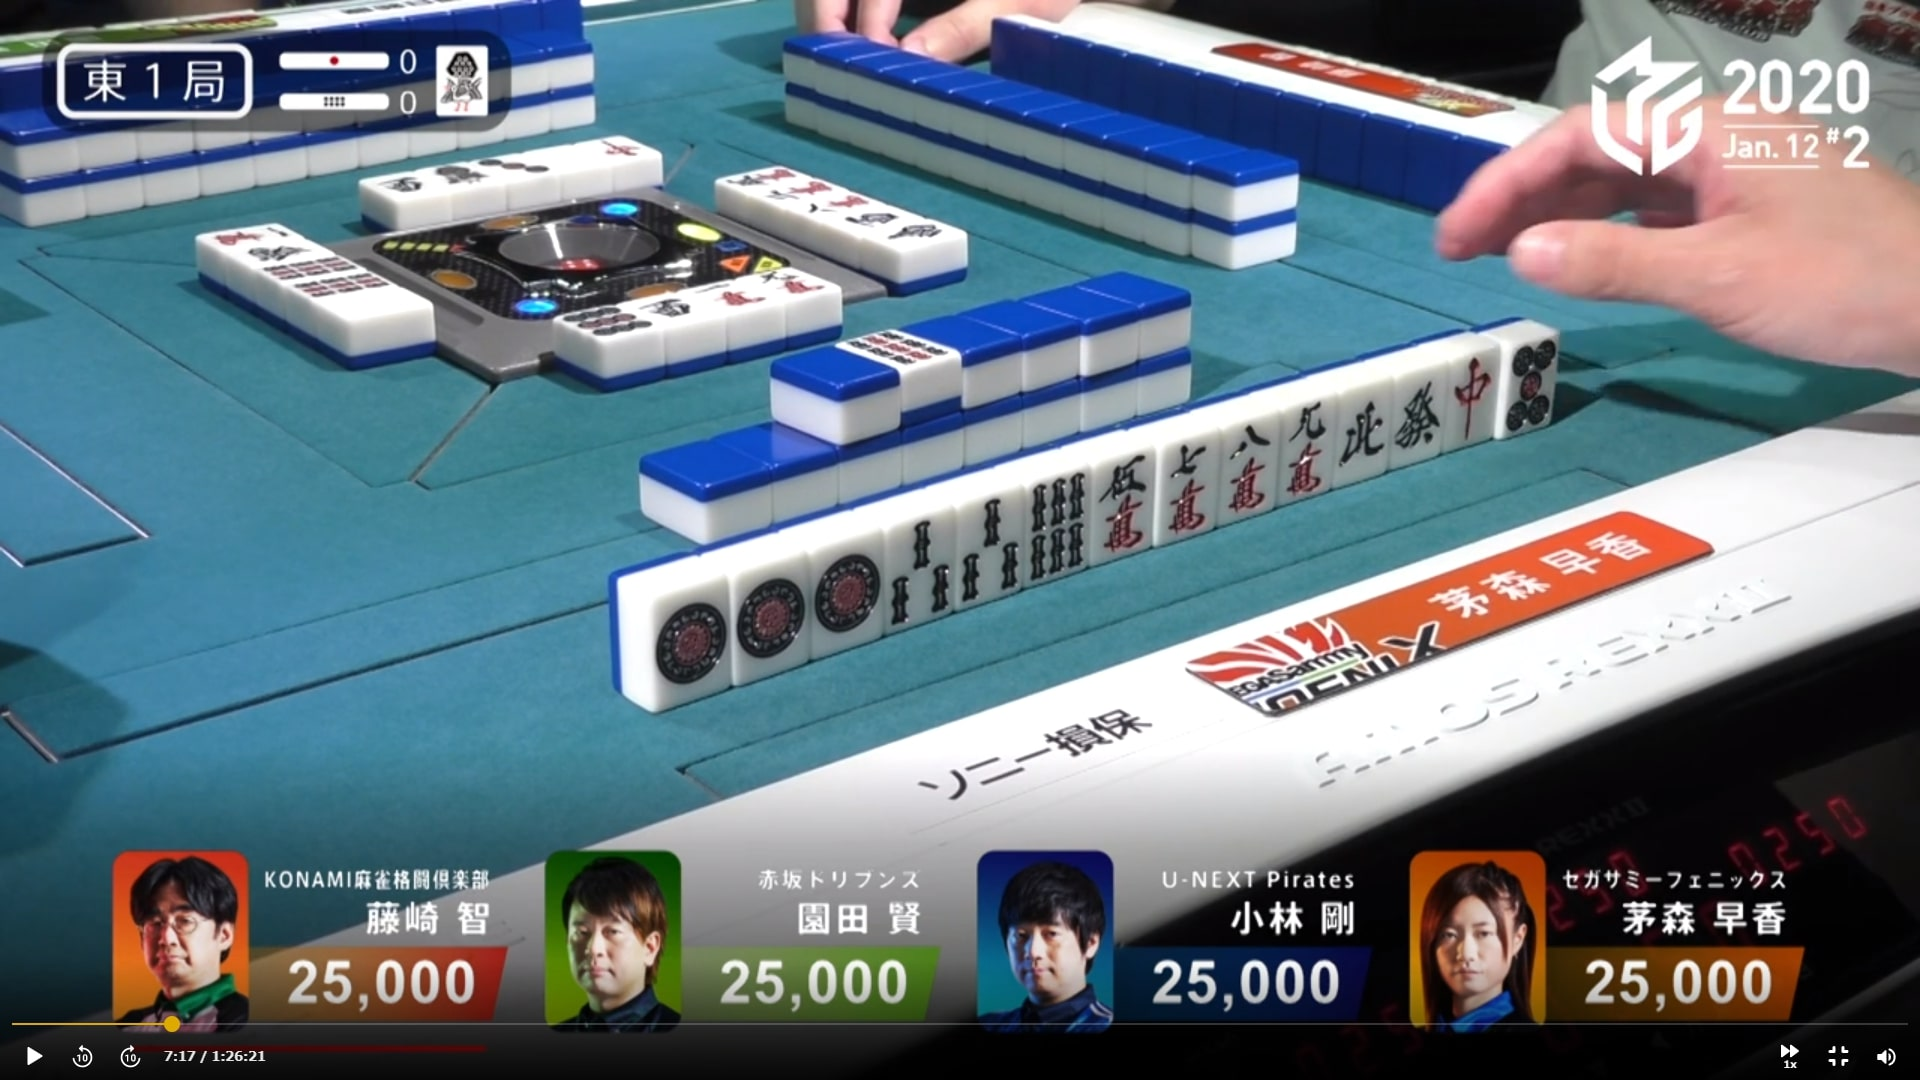1p: (731, 566, 808, 671), (651, 593, 727, 692), (814, 542, 878, 649)
3s: (886, 516, 957, 626), (960, 493, 1025, 603)
5m: (1087, 451, 1147, 563)
5p: (1505, 328, 1556, 434)
6s: (1022, 469, 1087, 579)
7m: (1153, 434, 1212, 541)
8m: (1209, 415, 1270, 520)
9m: (1273, 400, 1328, 500)
chun: (1443, 344, 1493, 448)
hand_ton_1: (47, 32, 262, 124)
hatsu: (1390, 372, 1440, 460)
pei: (1337, 386, 1385, 476)
round_0: (272, 83, 418, 117)
team_segasammy: (1182, 583, 1484, 717)
